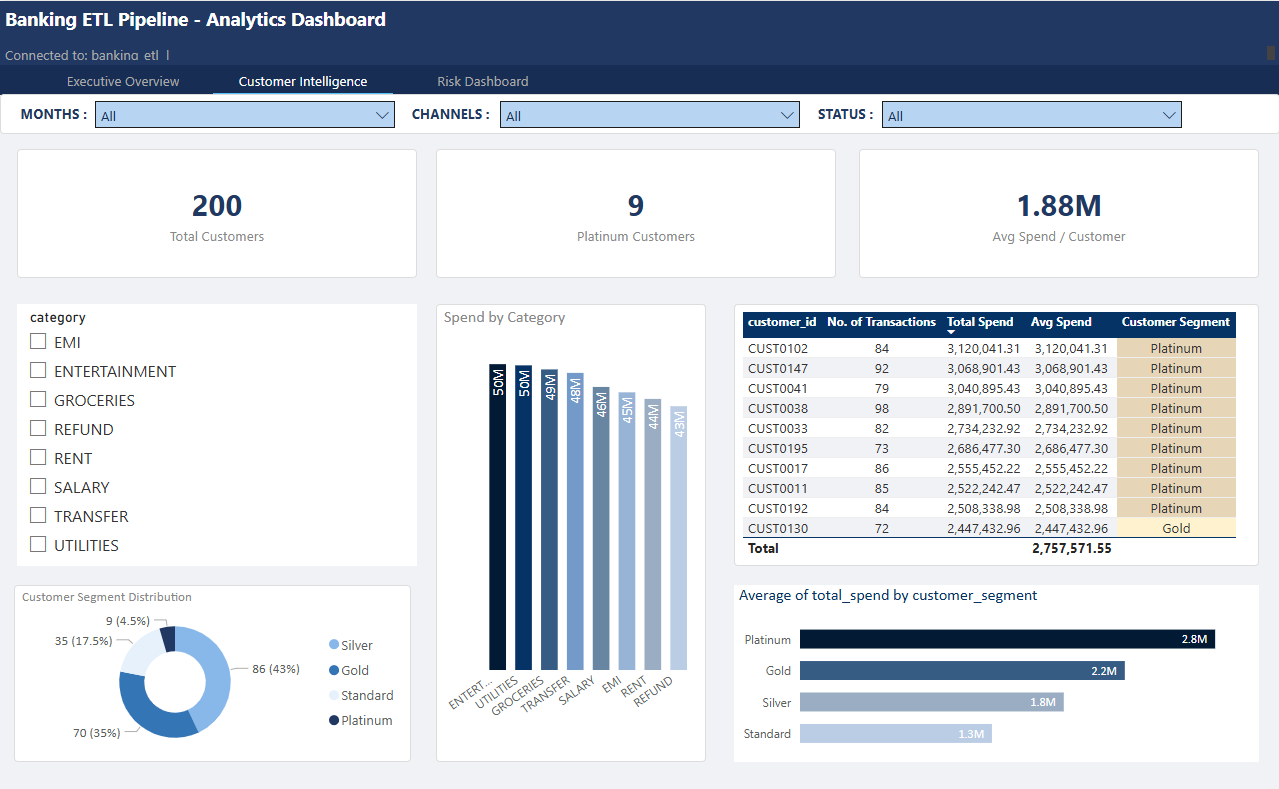

Layout of this report page (visuals, bound fields, positions):
{"tool":"powerbi","page":{"name":"Customer Intelligence","canvas":[1280,800],"ordinal":1},"visuals":[{"type":"textbox","box":[0,0,1280,40],"z":0},{"type":"textbox","box":[0,40,1280,24],"z":1000},{"type":"actionButton","title":"Executive Overview","box":[33,64,180,30],"z":3000},{"type":"actionButton","box":[213,64,180,30],"z":4000},{"type":"actionButton","box":[393,64,180,30],"z":5000},{"type":"textbox","box":[573,64,707,30],"z":7000},{"type":"shape","box":[213,40,180,106],"z":8000},{"type":"textbox","box":[0,64,33,30],"z":9000},{"type":"card","fields":{"Values":["Count(banking_etl fact_transactions.customer_id)"]},"box":[17,148,400,129],"z":9005},{"type":"card","fields":{"Values":["banking_etl fact_transactions.Platinum Customers"]},"box":[436,148,400,129],"z":9006},{"type":"card","fields":{"Values":["banking_etl fact_transactions.Avg Spend"]},"box":[859,148,400,129],"z":9007},{"type":"donutChart","title":"Customer Segment Distribution","fields":{"Category":["banking_etl vw_customer_segments.customer_segment"],"Y":["CountNonNull(banking_etl vw_customer_segments.customer_id)"]},"box":[14,584,397,177],"z":9008},{"type":"tableEx","fields":{"Values":["banking_etl vw_customer_segments.customer_id","banking_etl vw_customer_segments.total_transactions","banking_etl vw_customer_segments.total_spend","banking_etl fact_transactions.Avg Spend","banking_etl vw_customer_segments.customer_segment"]},"box":[734,303,525,262],"z":9009},{"type":"clusteredColumnChart","title":"Spend by Category","fields":{"Category":["banking_etl vw_category_breakdown.category"],"Y":["Sum(banking_etl vw_category_breakdown.total_volume)"]},"box":[436,303,270,458],"z":9010},{"type":"clusteredBarChart","fields":{"Category":["banking_etl vw_customer_segments.customer_segment"],"Y":["Avg(banking_etl vw_customer_segments.total_spend)"]},"box":[734,584,525,177],"z":9011},{"type":"slicer","fields":{"Values":["banking_etl fact_transactions.category"]},"box":[17,303,400,262],"z":9012},{"type":"textbox","box":[0,93,1280,40],"z":9013},{"type":"slicer","fields":{"Values":["banking_etl vw_monthly_trend.txn_month"]},"box":[85,90,320,40],"z":9014},{"type":"slicer","fields":{"Values":["banking_etl vw_channel_performance.channel"]},"box":[490,90,320,40],"z":9015},{"type":"slicer","fields":{"Values":["banking_etl fact_transactions.status"]},"box":[872,90,320,40],"z":9016}]}

Visuals, with their boxes on the page's 1280x800 design canvas (x1, y1, x2, y2). These are canvas units, not pixel positions in the 1279x789 screenshot, which may show the page scaled, cropped or inside an application window:
textbox: box(0, 0, 1280, 40)
textbox: box(0, 40, 1280, 64)
"Executive Overview" actionButton: box(33, 64, 213, 94)
actionButton: box(213, 64, 393, 94)
actionButton: box(393, 64, 573, 94)
textbox: box(573, 64, 1280, 94)
shape: box(213, 40, 393, 146)
textbox: box(0, 64, 33, 94)
card - Count(banking_etl fact_transactions.customer_id): box(17, 148, 417, 277)
card - banking_etl fact_transactions.Platinum Customers: box(436, 148, 836, 277)
card - banking_etl fact_transactions.Avg Spend: box(859, 148, 1259, 277)
"Customer Segment Distribution" donutChart: box(14, 584, 411, 761)
tableEx - banking_etl vw_customer_segments.customer_id x banking_etl vw_customer_segments.total_transactions: box(734, 303, 1259, 565)
"Spend by Category" clusteredColumnChart: box(436, 303, 706, 761)
clusteredBarChart - banking_etl vw_customer_segments.customer_segment x Avg(banking_etl vw_customer_segments.total_spend): box(734, 584, 1259, 761)
slicer - banking_etl fact_transactions.category: box(17, 303, 417, 565)
textbox: box(0, 93, 1280, 133)
slicer - banking_etl vw_monthly_trend.txn_month: box(85, 90, 405, 130)
slicer - banking_etl vw_channel_performance.channel: box(490, 90, 810, 130)
slicer - banking_etl fact_transactions.status: box(872, 90, 1192, 130)
